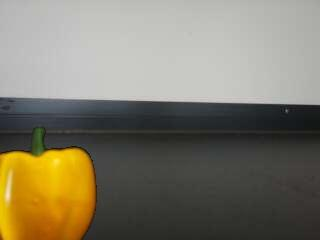Capsicum: (1, 122, 99, 240)
